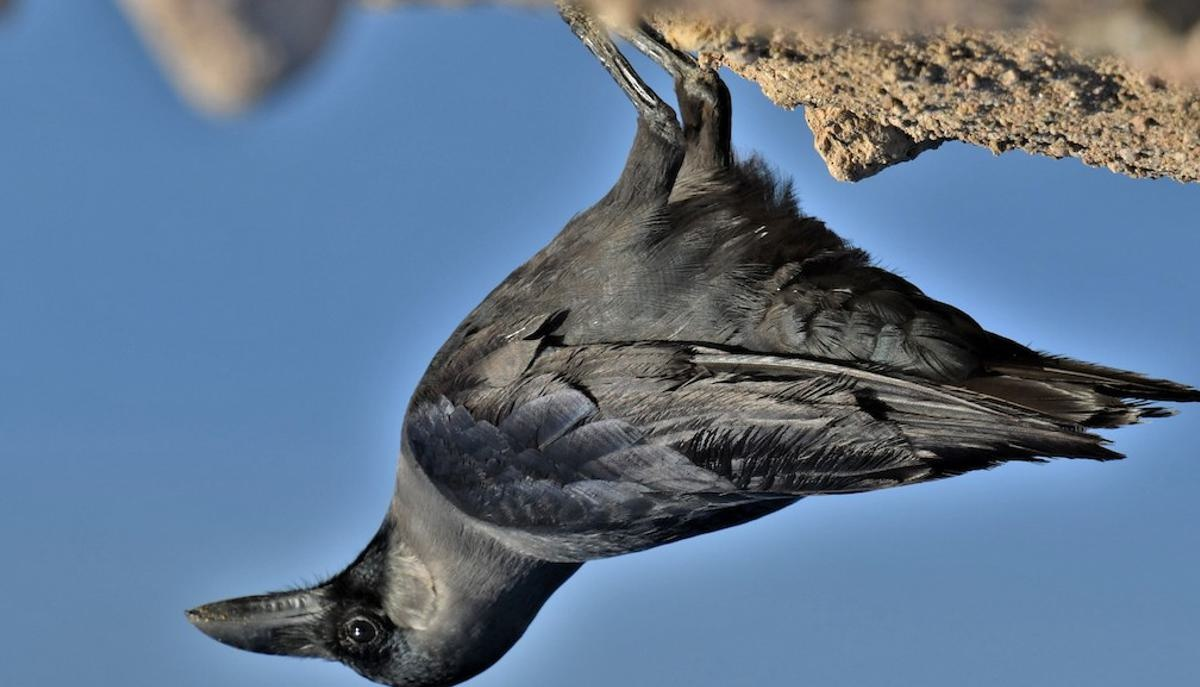crow: (180, 65, 1186, 676)
